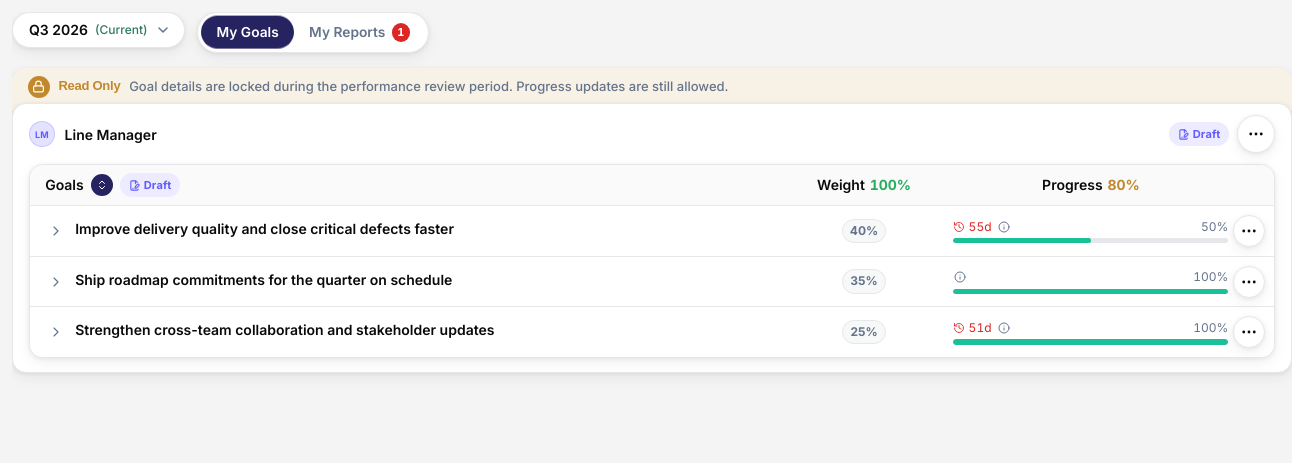
Test case: GoalsPersonDetail manager review › hides the person goal totals on an embedded profile
The image size is (1292, 463).
Expected: the element named "Goal sections" is shown, [197,12,429,53]
Click the button "My Reports 1". click: (360, 32)
box: [294,16,425,49]
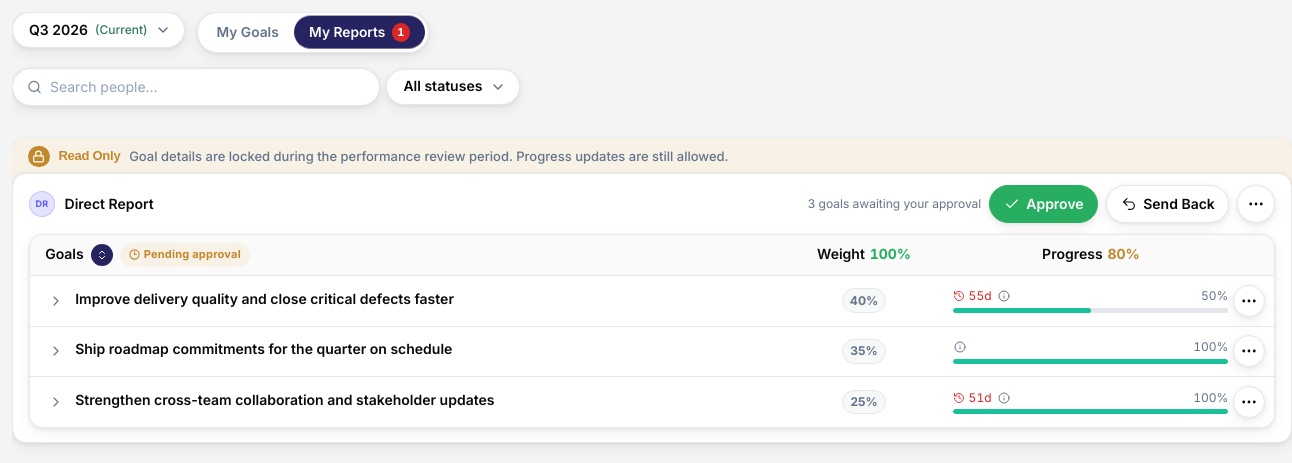
Expected: the element named "Direct Report goals" is shown, [12,173,1291,443]
